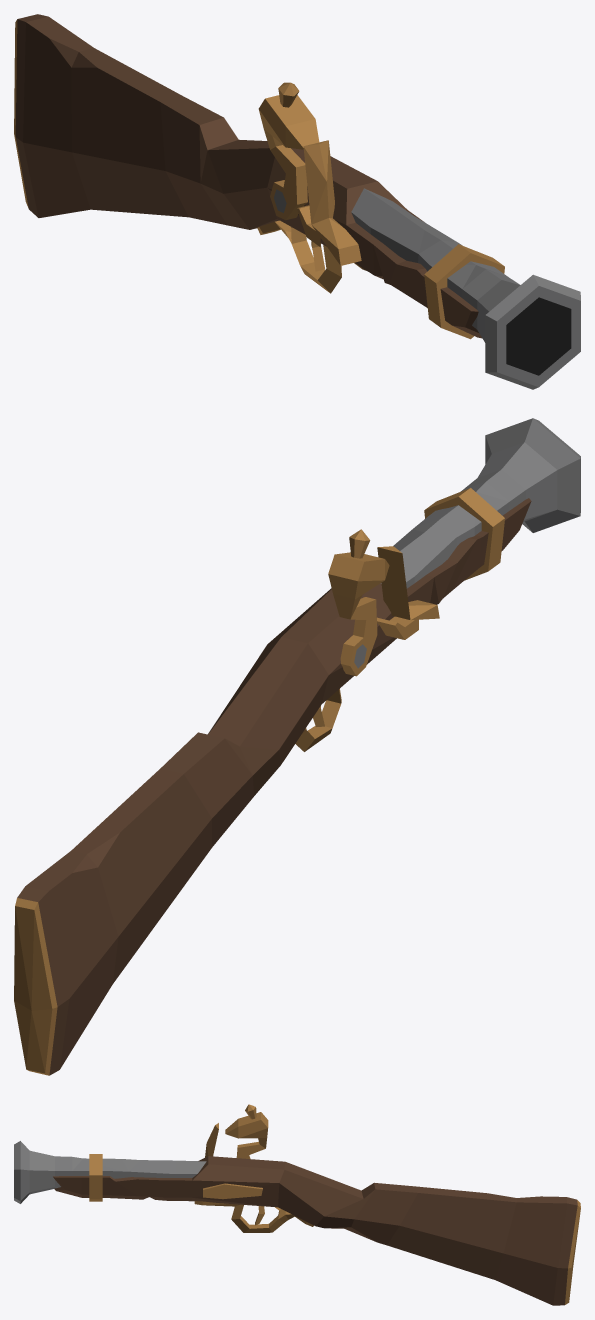
Rendered from SM_Wep_BlunderBuss_02.glb.
3 views of the same model, one above another, from view 1: azimuth 30°, elevation 25°; view 2: azimuth 150°, elevation 25°; view 3: azimuth 270°, elevation 25° (orthographic). The views are drawn at different scales.
Parts seen in each view (by area): view 1: SM_Wep_BlunderBuss_02; view 2: SM_Wep_BlunderBuss_02; view 3: SM_Wep_BlunderBuss_02.
Part boxes in pixels (bbox=[...]): SM_Wep_BlunderBuss_02: bbox=[14, 14, 580, 389]; SM_Wep_BlunderBuss_02: bbox=[14, 418, 580, 1075]; SM_Wep_BlunderBuss_02: bbox=[14, 1104, 580, 1305].
Bounding box in the file's own units: 0.000958 × 0.00324 × 0.00878.
